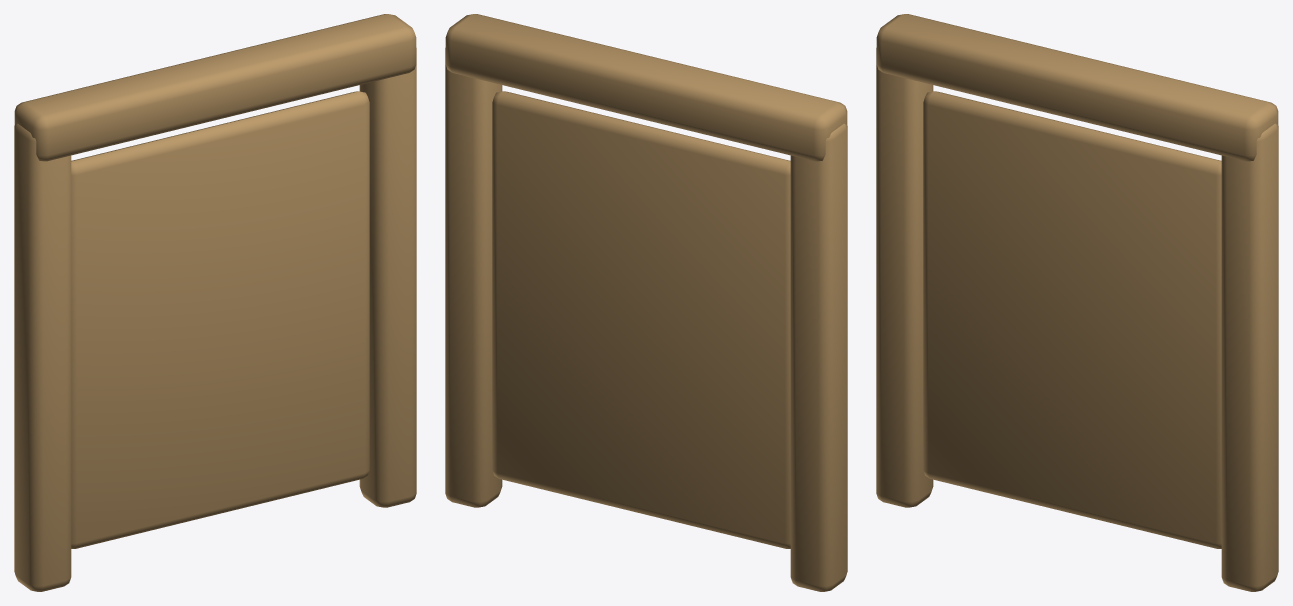
File: door.glb
3 renders of one model, left to right at view 1: azimuth 30°, elevation 25°; view 2: azimuth 150°, elevation 25°; view 3: azimuth 330°, elevation 25°, orthographic.
Visible parts, largest first — view 1: DoorPanel, DoorPost-0.7, DoorLintel, DoorPost0.7; view 2: DoorPanel, DoorPost-0.7, DoorLintel, DoorPost0.7; view 3: DoorPanel, DoorPost0.7, DoorLintel, DoorPost-0.7.
Part boxes in pixels (x1,y1,x2,y2): DoorPanel: (71,91,369,548); DoorPost-0.7: (14,123,71,591); DoorLintel: (14,14,416,161); DoorPost0.7: (359,48,416,507); DoorPanel: (492,91,790,548); DoorPost-0.7: (790,123,847,591); DoorLintel: (445,14,847,161); DoorPost0.7: (445,48,502,507); DoorPanel: (923,91,1221,548); DoorPost0.7: (1221,123,1278,591); DoorLintel: (876,14,1278,161); DoorPost-0.7: (876,48,933,507).
Size of the model in its own units: 1.57 by 1.85 by 0.2.
